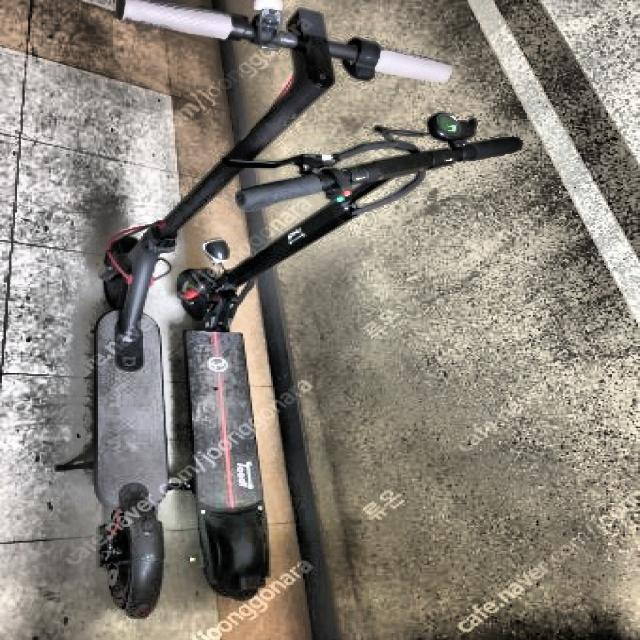bike: (81, 2, 529, 638)
